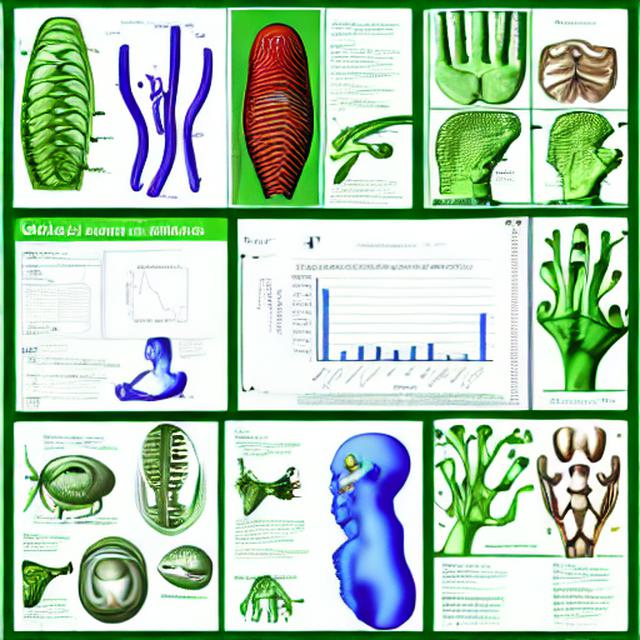Graph: (274, 262, 496, 392), (112, 261, 206, 326)
